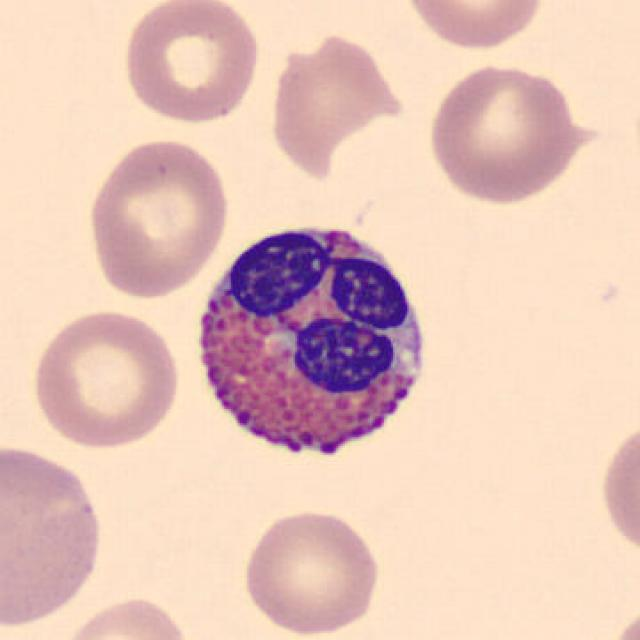Eosinophil: (179, 204, 441, 486)
RBC: (82, 132, 233, 302), (423, 58, 592, 206), (27, 305, 183, 451), (265, 27, 409, 184), (0, 437, 108, 632), (236, 502, 384, 638), (117, 0, 263, 127), (397, 0, 548, 51), (594, 411, 640, 566), (57, 592, 194, 640), (604, 599, 638, 640)
